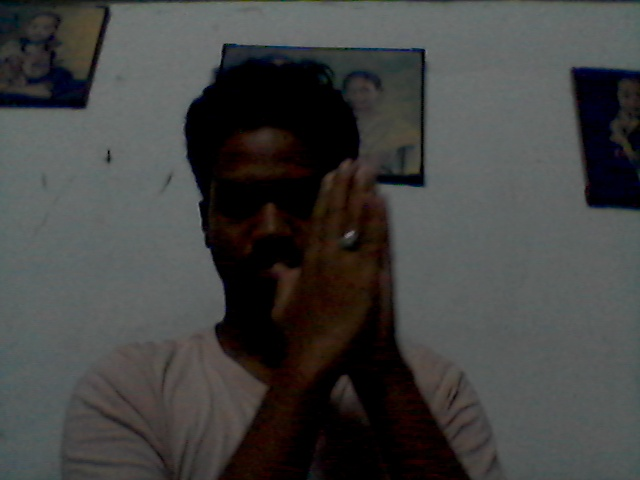Namasthe: (271, 157, 425, 403)
